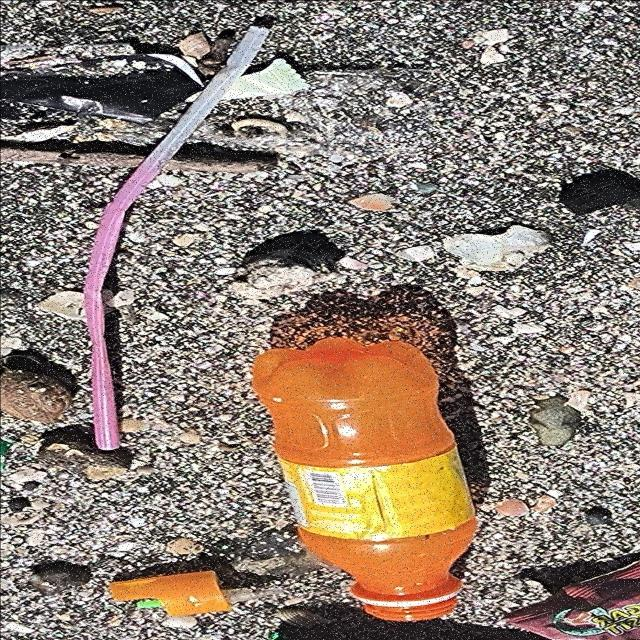plastic_waste: (81, 25, 278, 453), (248, 337, 484, 624)
